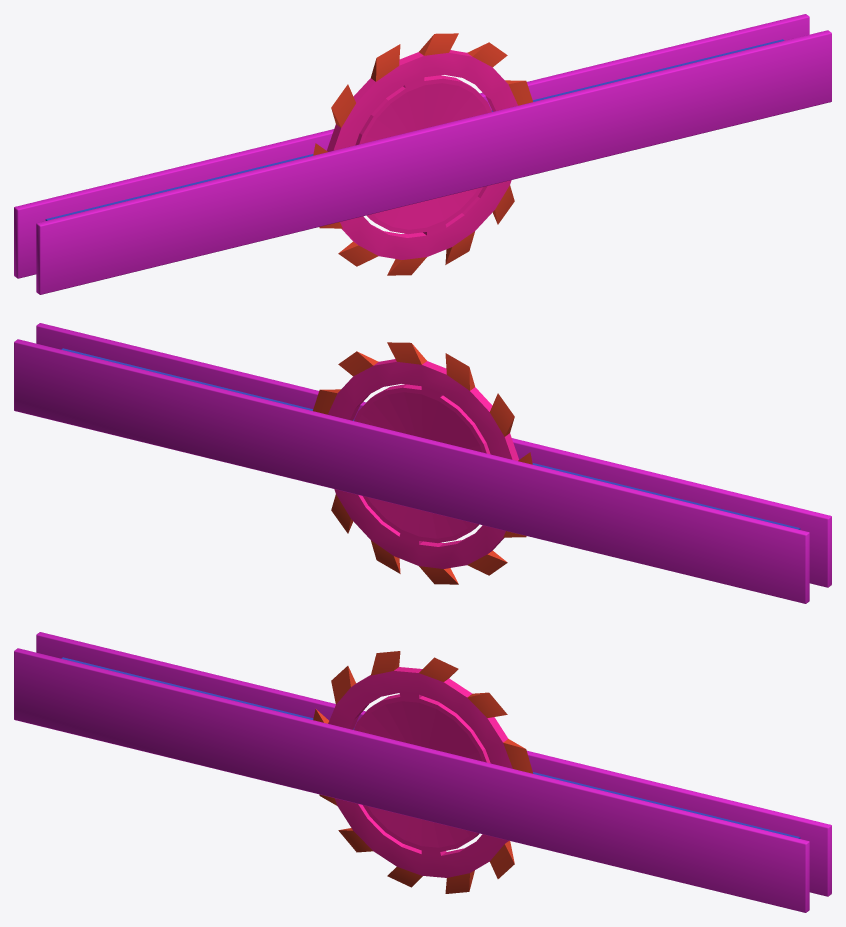
The model's file is razor.fbx.
3 views of the same model, one above another, from view 1: azimuth 30°, elevation 25°; view 2: azimuth 150°, elevation 25°; view 3: azimuth 330°, elevation 25° (orthographic).
Parts seen in each view (by area): view 1: Frame, Cylinder.005; view 2: Frame, Cylinder.005; view 3: Frame, Cylinder.005.
Part boxes in pixels (box(x1,y1,x2,y2)): Frame: box(14, 14, 831, 294); Cylinder.005: box(313, 33, 532, 275); Frame: box(14, 323, 831, 603); Cylinder.005: box(313, 342, 532, 584); Frame: box(14, 632, 831, 912); Cylinder.005: box(313, 651, 533, 893).
Size of the model in its own units: 497 by 141 by 28.72.
